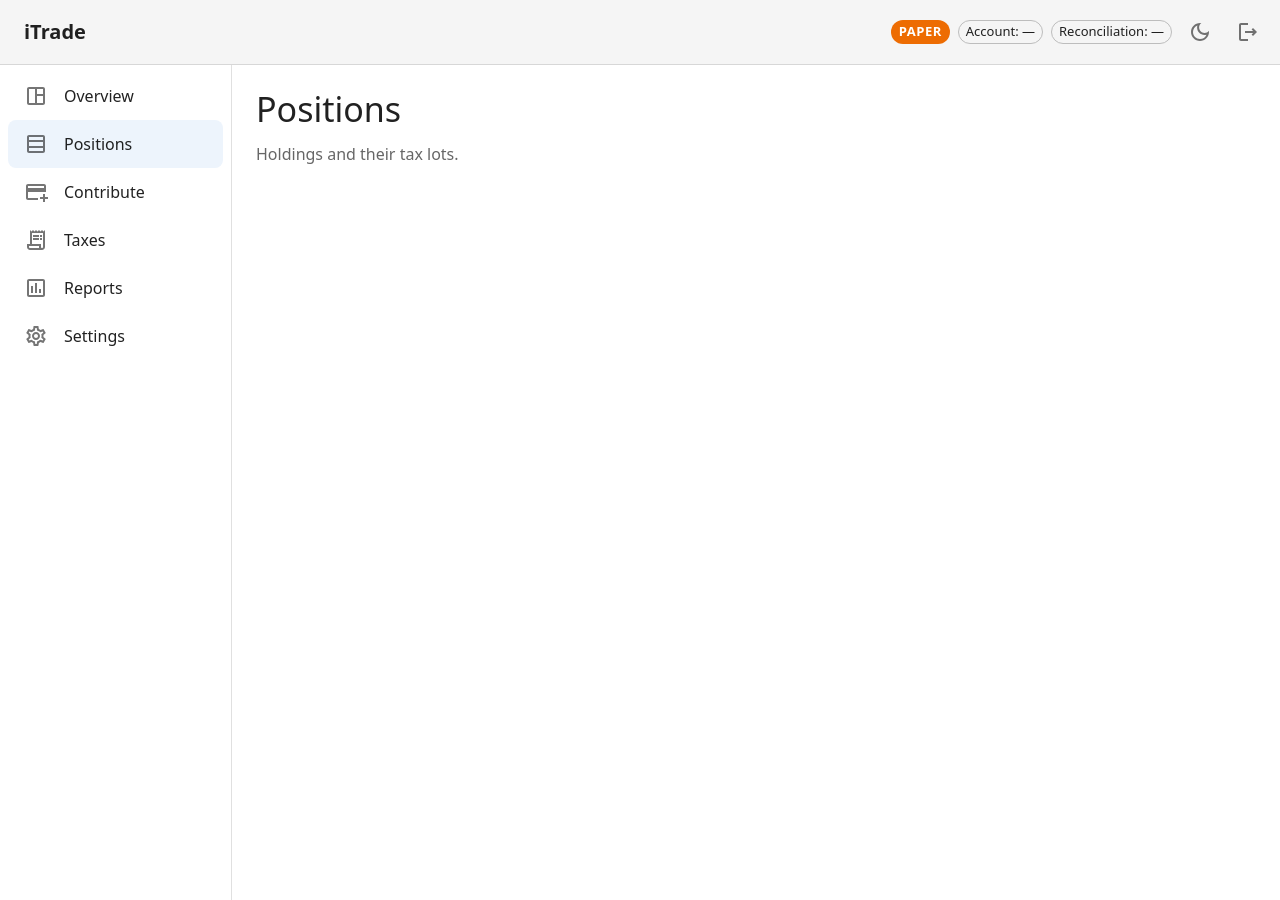
Scenario: sign out › says so when the server did not answer, and stays signed in
Expected: the heading "Positions" is shown, [256,86,401,132]
Click the button named "Sign out". click: x=1248, y=32
box: [1228,12,1268,52]
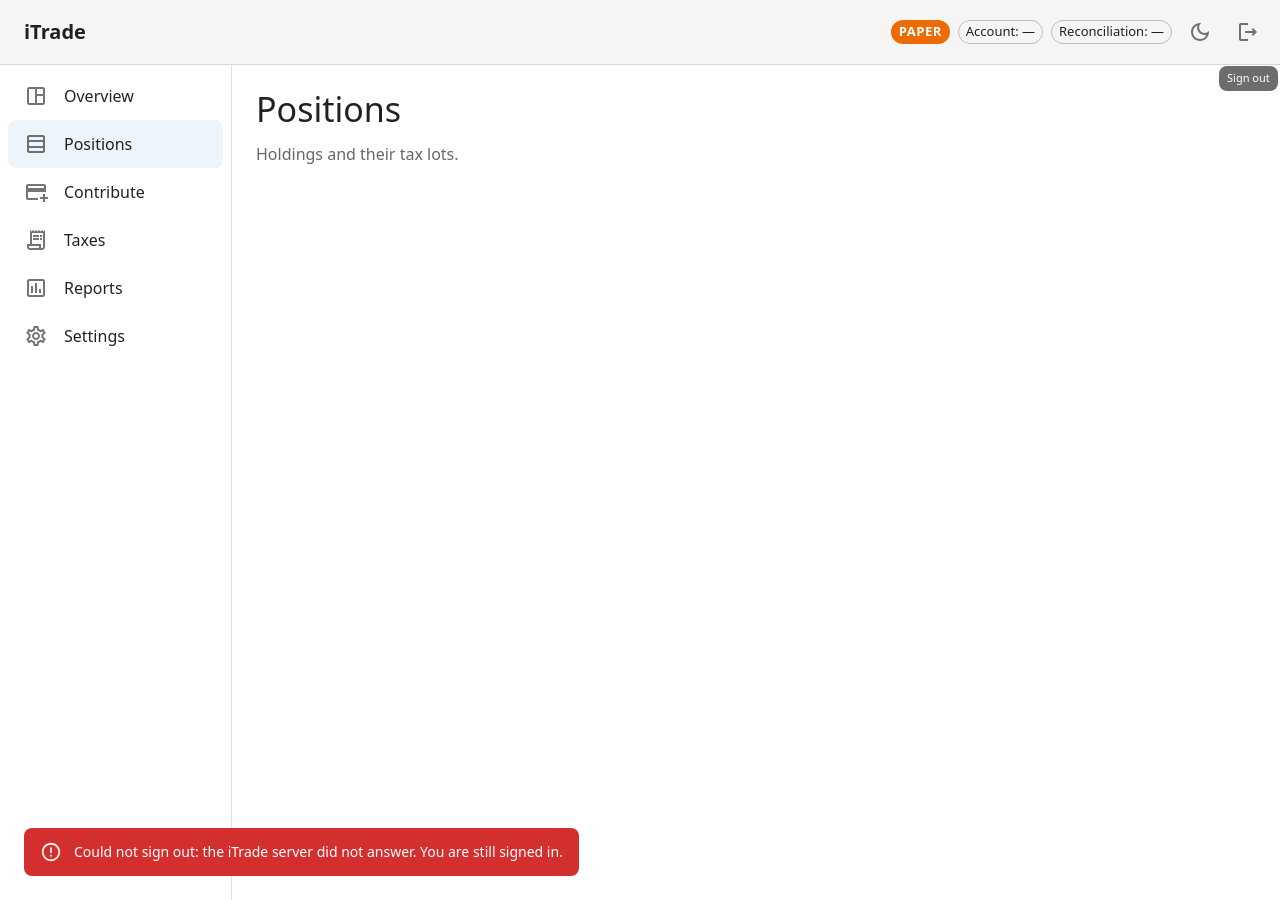
Expected: the message shows "Could not sign out", [74,842,563,861]
